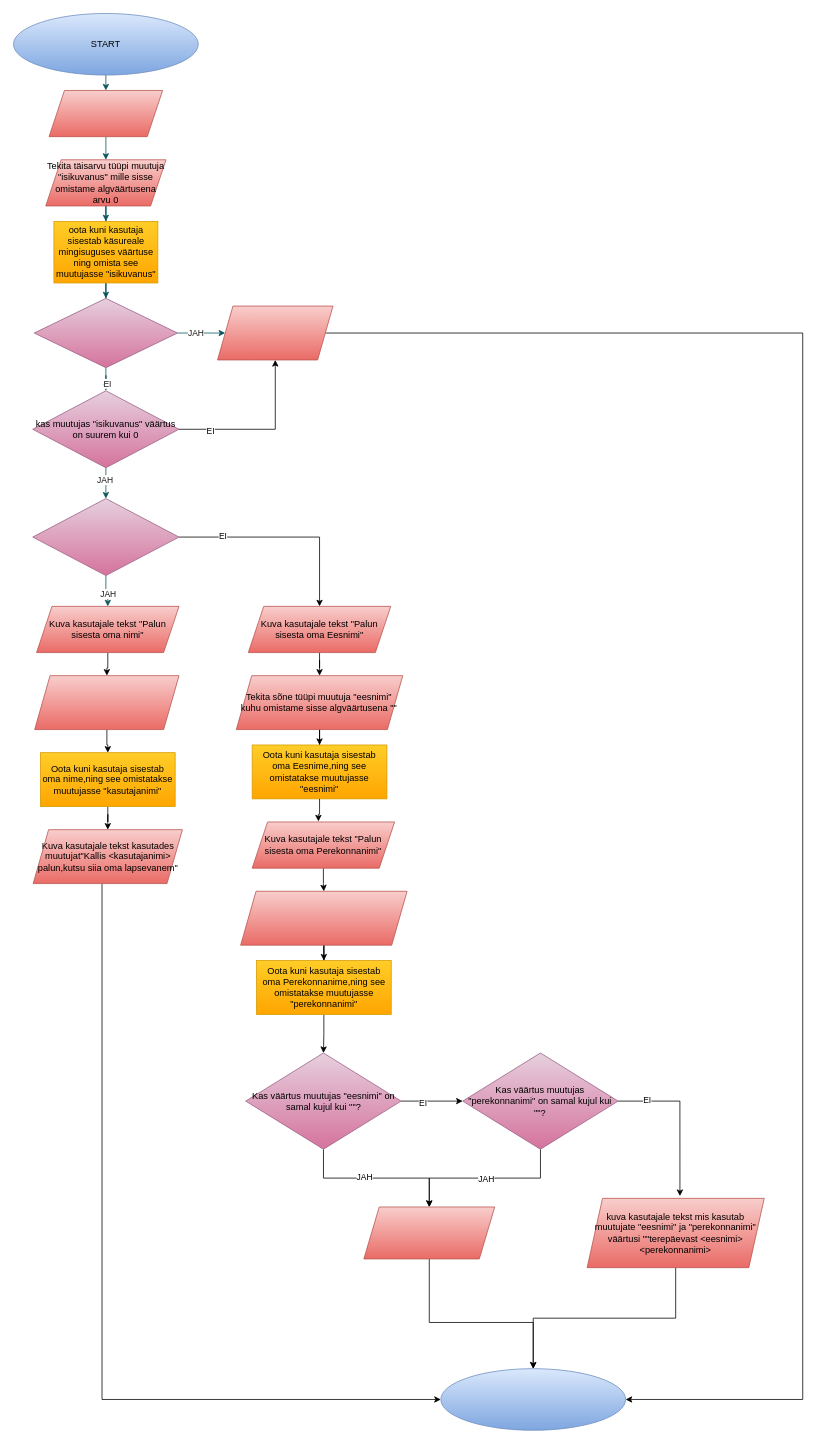
Some shapes in this 822 by 1444 pixel diagram are drawn without their labels. The centre of each missing label's shape, as x and y in pixels:
Kas muutujas "isikuvanus" on väärtus väiksem või võrdne 0 arvuga: [105,333]
kas muutujas "isikuvanus" väärtus on väiksem kui kui 18: [105,537]
kuva kasutajalae tekst "sisestama pidi mõlemad nimed :<": [429,1232]
Kuva kasutajale tekst "ajarändureid me ei teeninda": [275,332]
Kuva kasutajale tekst "palun sisesta oma vanus": [105,113]
LÕPP: [533,1399]
Tekita sõne tüüpi muutuja "kasutajanimi" kohu omistame sisse algväärtusena "": [106,702]
Tekita sõne tüüpi muutuja "perekonnanimi" kuhu omistame sisse algväärtusena "": [323,918]
